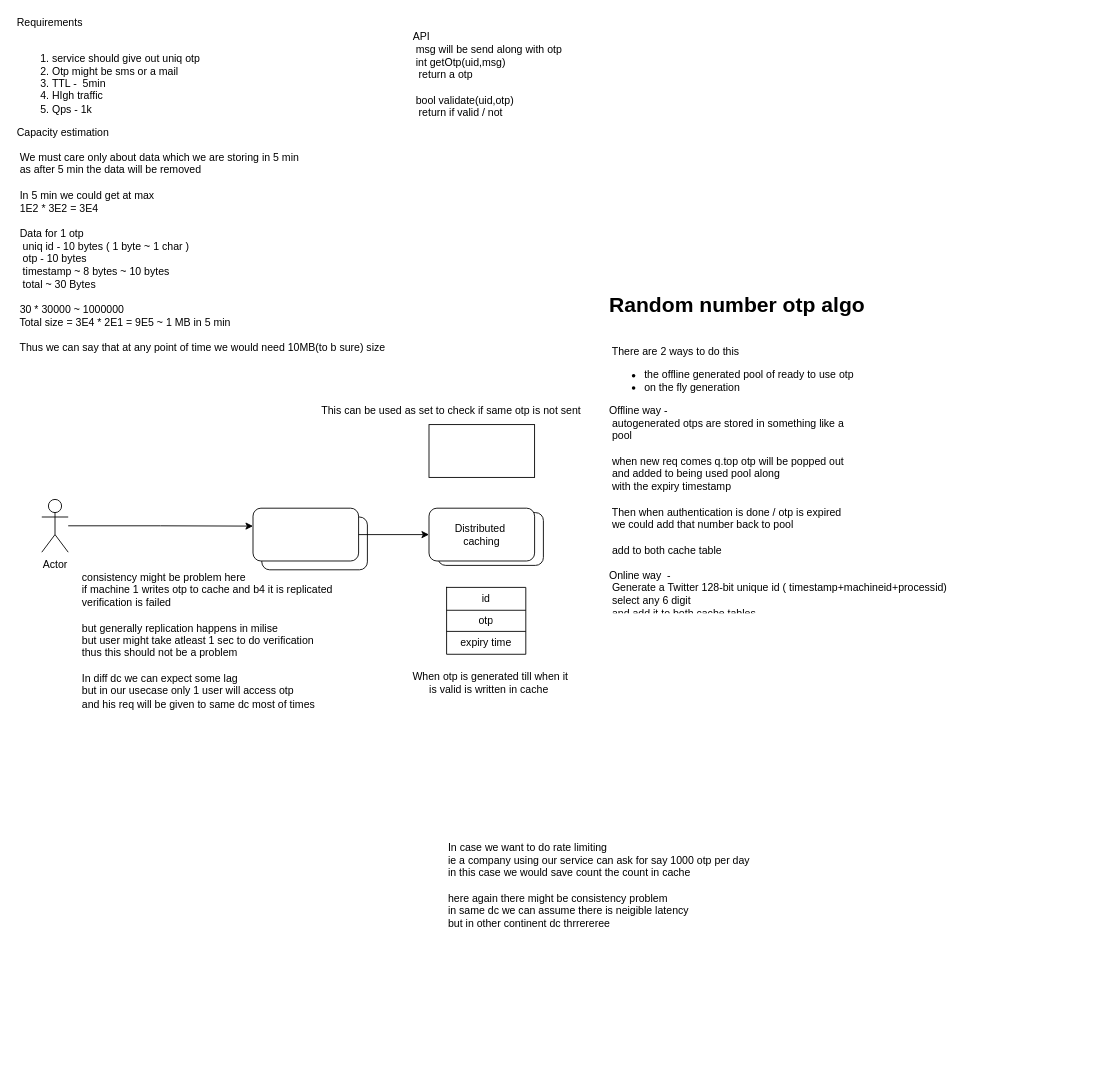
Image size: 1112x1072. Some labels were removed from this diagram. Each missing label, with the centre of its shape:
OTP service: [305,534]
pool of currently sent otp: [481,450]
